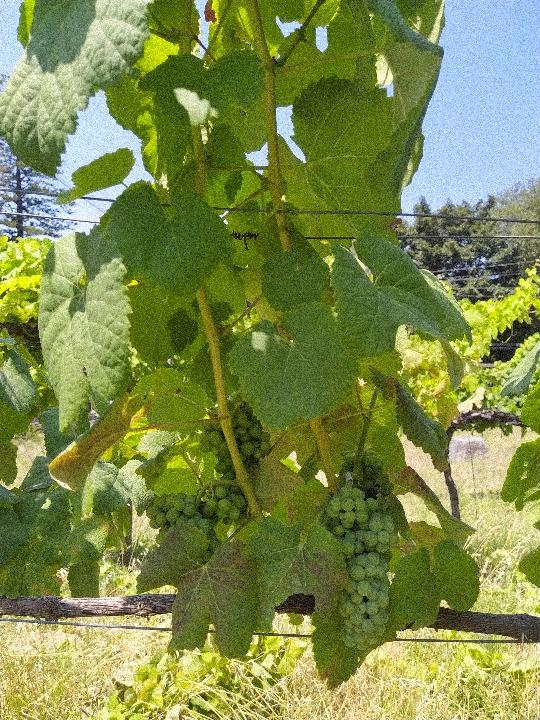grape: (324, 481, 397, 653), (197, 407, 273, 524), (141, 488, 226, 562)
